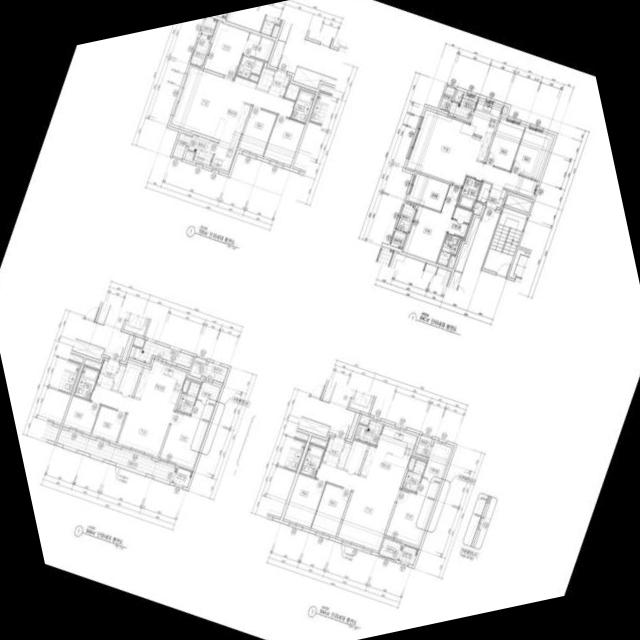background: (0, 0, 640, 640)
space_balconi: (56, 429, 176, 482), (128, 340, 193, 368), (188, 134, 217, 165), (449, 94, 477, 123), (354, 420, 383, 445), (190, 34, 210, 66), (396, 203, 415, 232), (203, 362, 228, 383), (379, 538, 402, 560)
space_bedroom: (403, 185, 461, 263), (159, 411, 208, 468), (385, 489, 433, 546), (203, 22, 249, 78), (283, 473, 325, 527), (510, 127, 552, 180), (311, 483, 351, 536), (263, 115, 304, 165), (485, 119, 524, 171), (238, 106, 276, 156), (63, 396, 99, 433), (91, 405, 125, 442)
space_dressroom: (417, 442, 451, 499), (191, 381, 220, 421), (243, 33, 274, 61), (447, 206, 472, 237)
space_front: (96, 359, 119, 390), (321, 436, 344, 466), (268, 69, 290, 97), (485, 184, 506, 209)
space_kitchen: (359, 425, 417, 488), (210, 98, 251, 172), (459, 99, 502, 162), (134, 361, 186, 410)
space_living_room: (406, 110, 537, 197), (171, 66, 294, 140), (316, 462, 399, 551), (90, 385, 173, 457)
space_multipurpose_space: (407, 173, 449, 211)
space_other: (454, 217, 480, 273), (118, 362, 142, 396), (343, 440, 367, 474), (505, 194, 532, 213), (172, 132, 191, 158), (269, 40, 285, 68), (256, 68, 274, 91), (439, 86, 455, 111), (337, 442, 351, 469), (189, 357, 206, 379), (415, 435, 432, 457), (111, 365, 125, 391), (121, 335, 133, 362), (347, 412, 359, 439), (476, 182, 491, 203), (284, 84, 299, 101), (83, 359, 101, 370), (309, 437, 327, 447), (472, 201, 482, 214), (133, 337, 144, 347), (182, 379, 190, 392), (447, 255, 455, 268), (408, 457, 415, 470), (359, 416, 369, 425), (185, 151, 194, 160), (454, 92, 462, 102), (249, 74, 258, 82), (501, 107, 507, 115)
space_outdoor_room: (398, 545, 418, 566), (173, 467, 192, 488), (390, 230, 406, 249), (201, 17, 217, 36)
space_staircase: (483, 207, 527, 276)
space_toilet: (74, 366, 99, 400), (456, 176, 481, 210), (290, 89, 315, 123), (401, 459, 426, 492), (436, 233, 461, 266), (176, 381, 200, 415), (300, 444, 324, 477), (236, 55, 264, 79)
